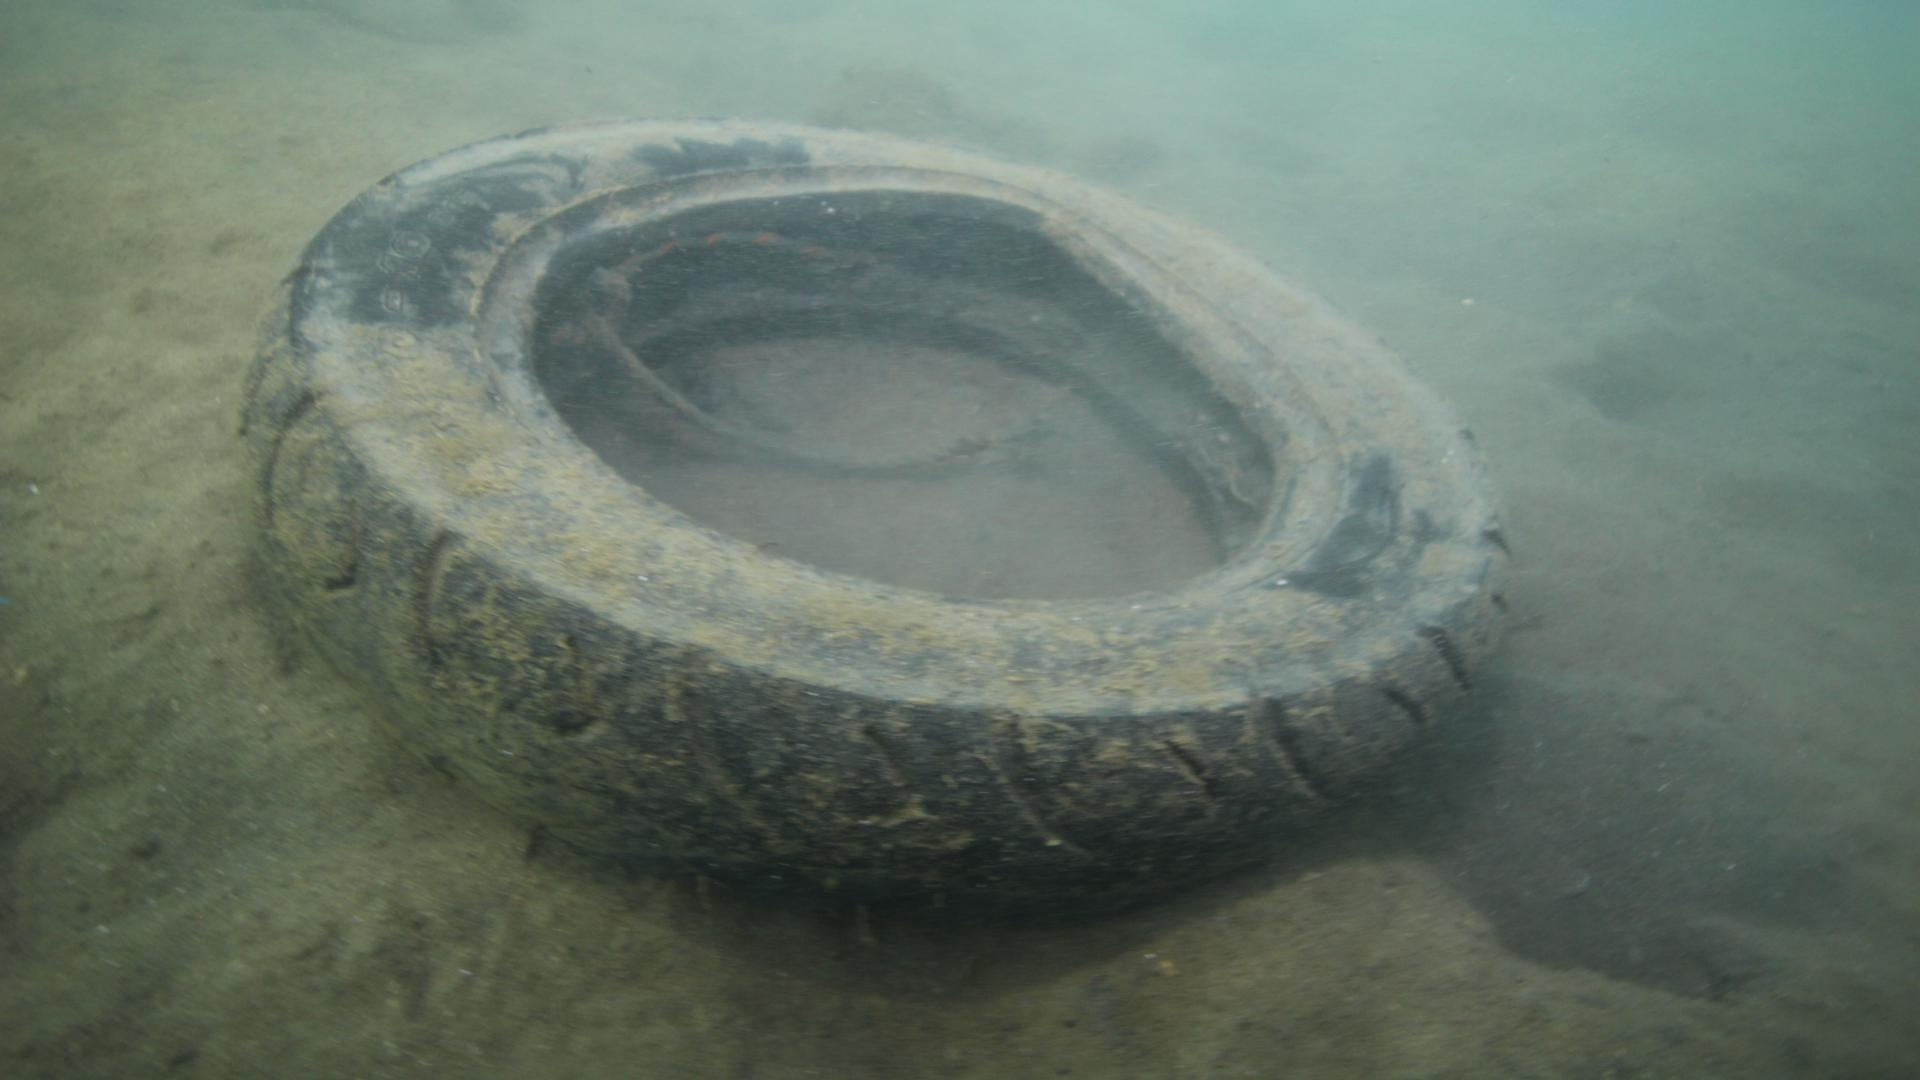rope: (574, 265, 964, 472)
tire: (235, 115, 1515, 928)
